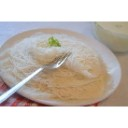idiyappam: (10, 33, 106, 98)
